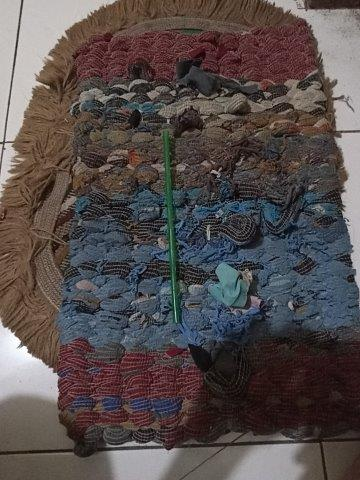sedotan: (163, 132, 180, 323)
